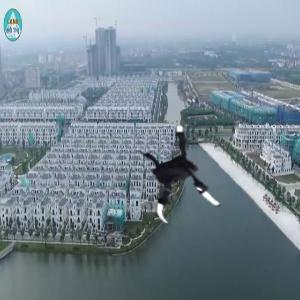drone: (123, 116, 236, 229)
